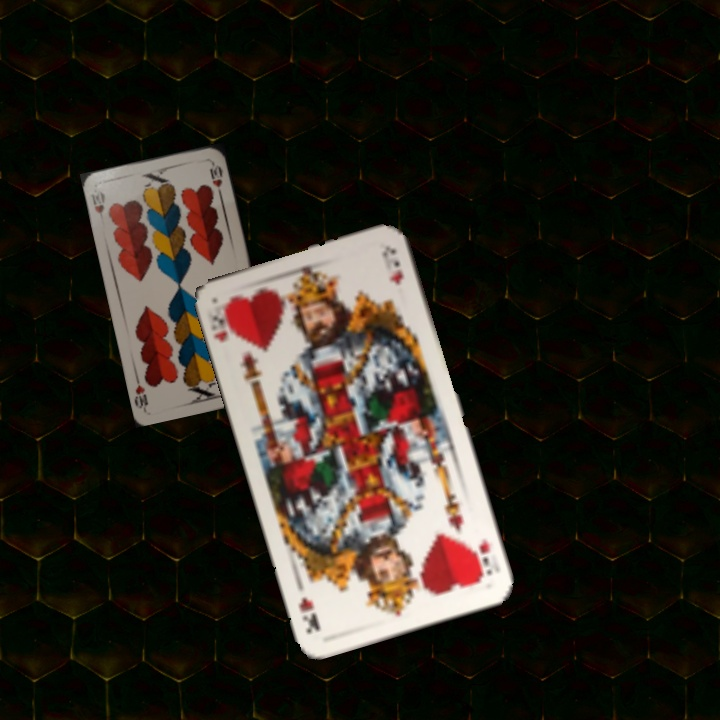H10: (87, 186, 108, 222)
HK: (207, 299, 239, 345), (467, 534, 495, 584)
